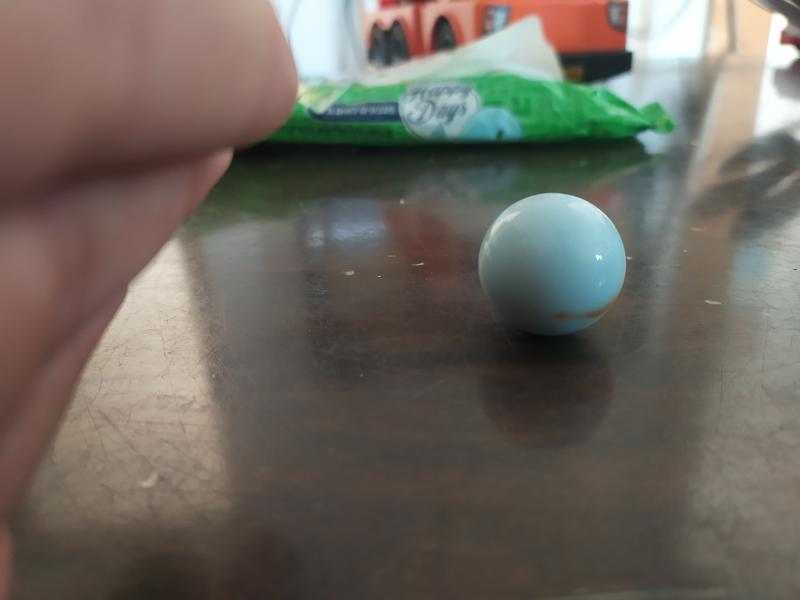Warning: (473, 190, 632, 340)
